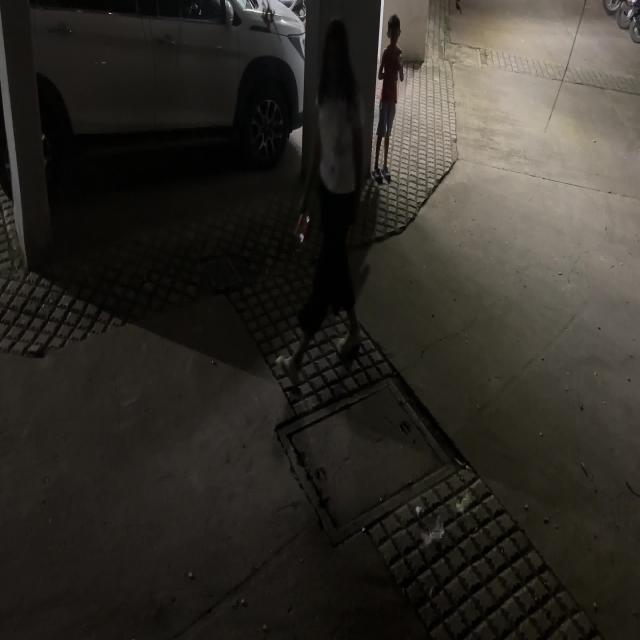human: (274, 16, 364, 396), (370, 0, 405, 201)
trash: (446, 486, 478, 514), (426, 510, 449, 548), (414, 502, 426, 526)
